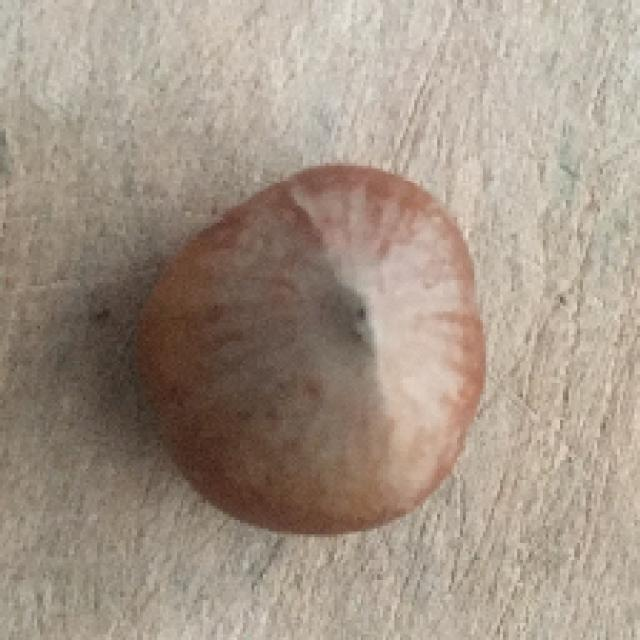qualityHazelnut: (144, 159, 488, 544)
